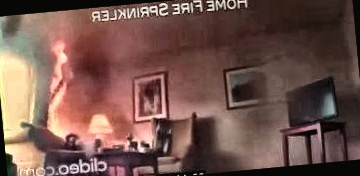fire: (30, 34, 93, 144)
